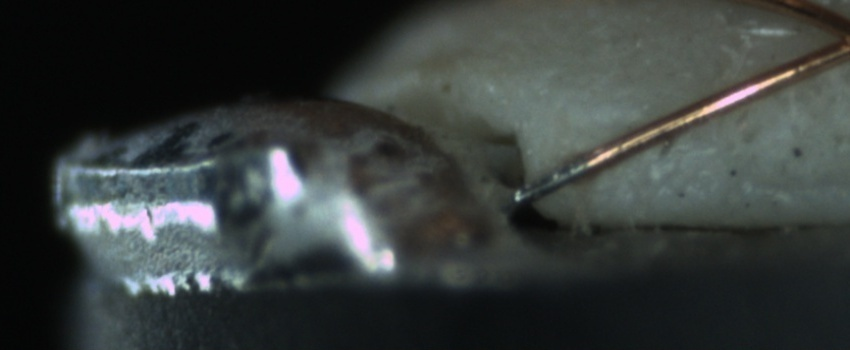CL: (804, 4, 850, 69)
TS: (512, 152, 593, 204)
